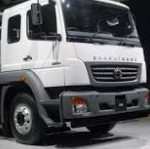truck: (1, 1, 148, 147)
